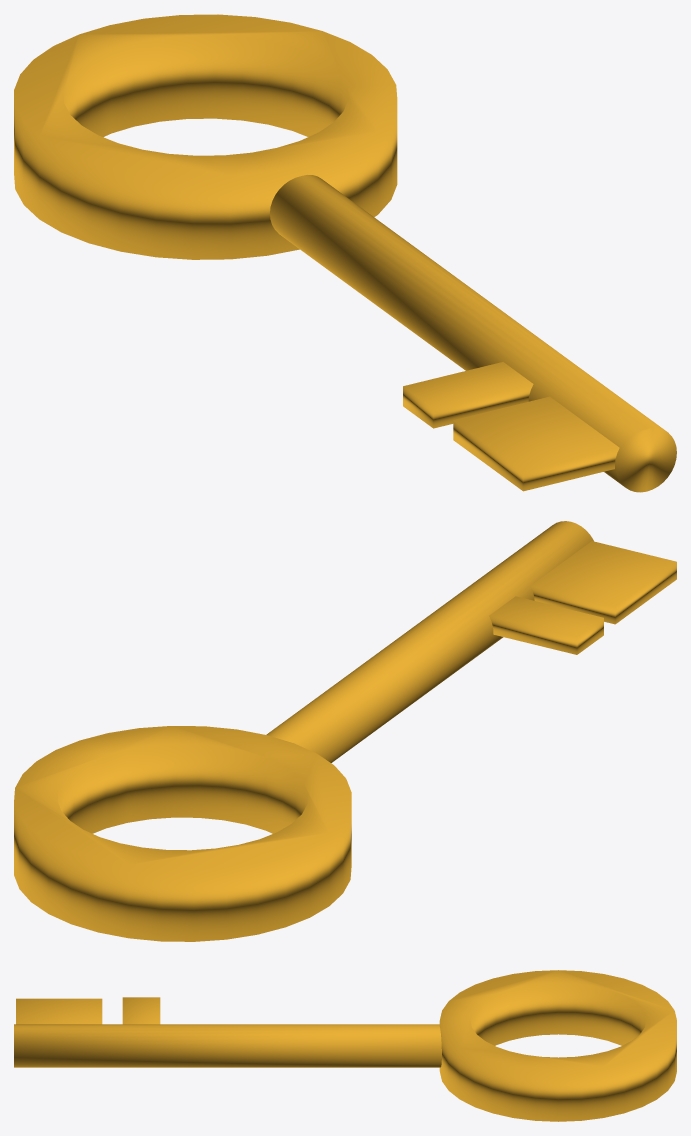
Rendered from BallKey.fbx.
The picture shows the model from 3 angles, top to bottom: view 1: azimuth 30°, elevation 25°; view 2: azimuth 150°, elevation 25°; view 3: azimuth 270°, elevation 25°; orthographic projection. The views are drawn at different scales.
Parts seen in each view (by area): view 1: Key; view 2: Key; view 3: Key.
Part boxes in pixels (x1,y1,x2,y2): Key: (14, 14, 676, 492); Key: (14, 521, 676, 941); Key: (14, 970, 676, 1121).
Bounding box in the file's own units: 200 × 47.87 × 559.
